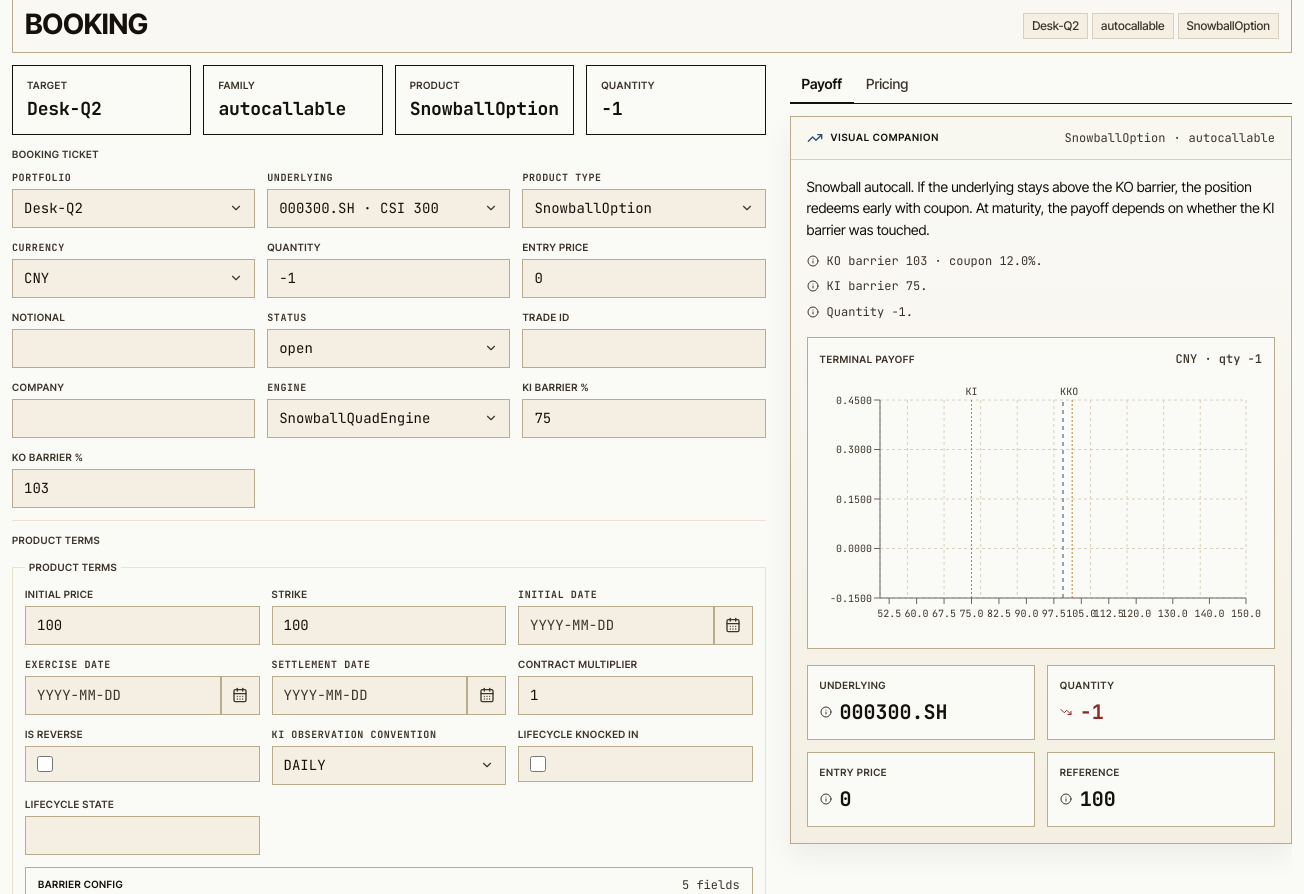
Test: BookingLive › books a product-backed position into a container portfolio
Expected: the heading "BOOKING" is shown, [25,9,148,40]
Expected: the dropdown labelled "Currency" shows "CNY", [11,239,1291,257]
In the field labelled "Trade ID": (644, 348) [522,329,766,368], type "BOOK-1"
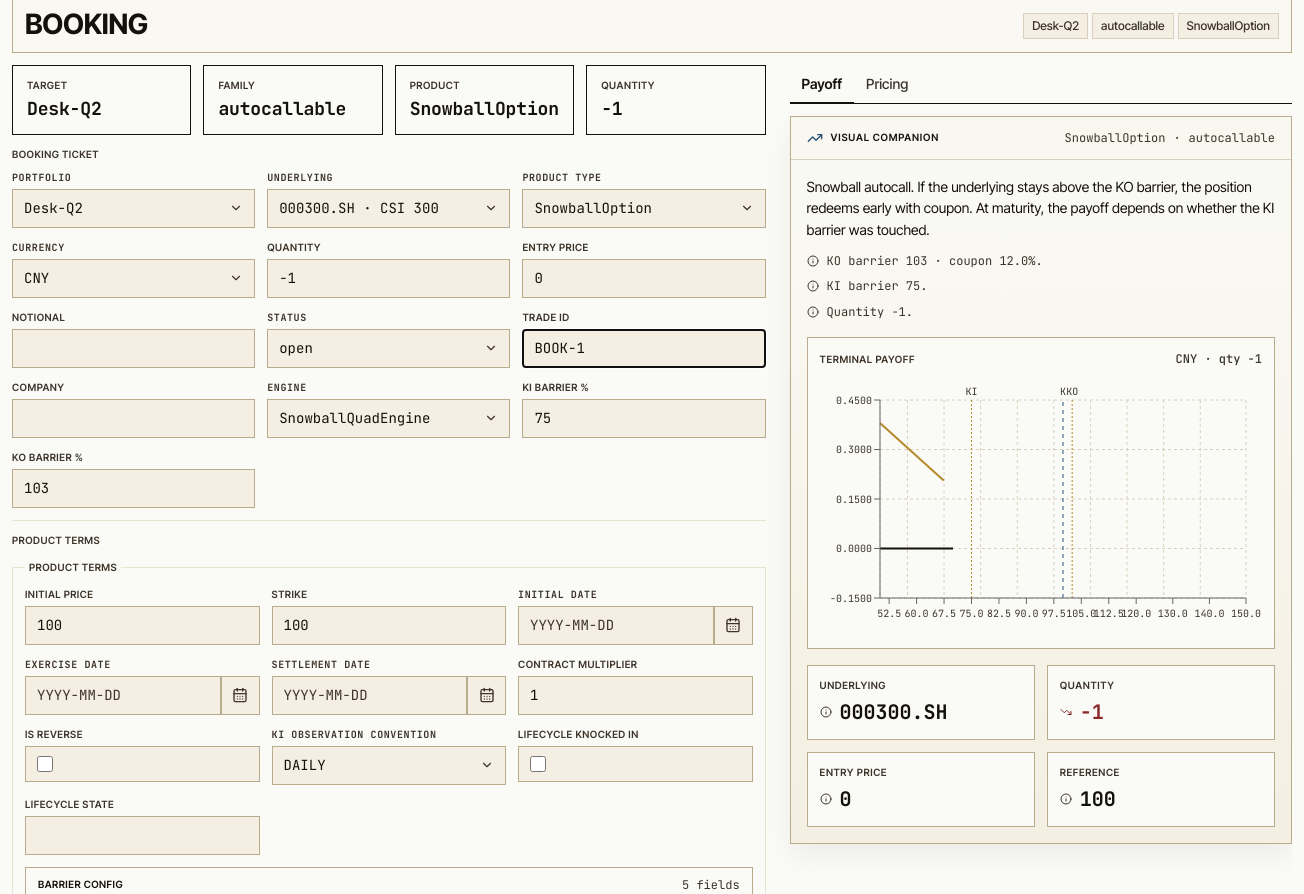
In the field labelled "Company": (134, 418) [12,399,255,438], type "ACME Corp"
(page scrolled)
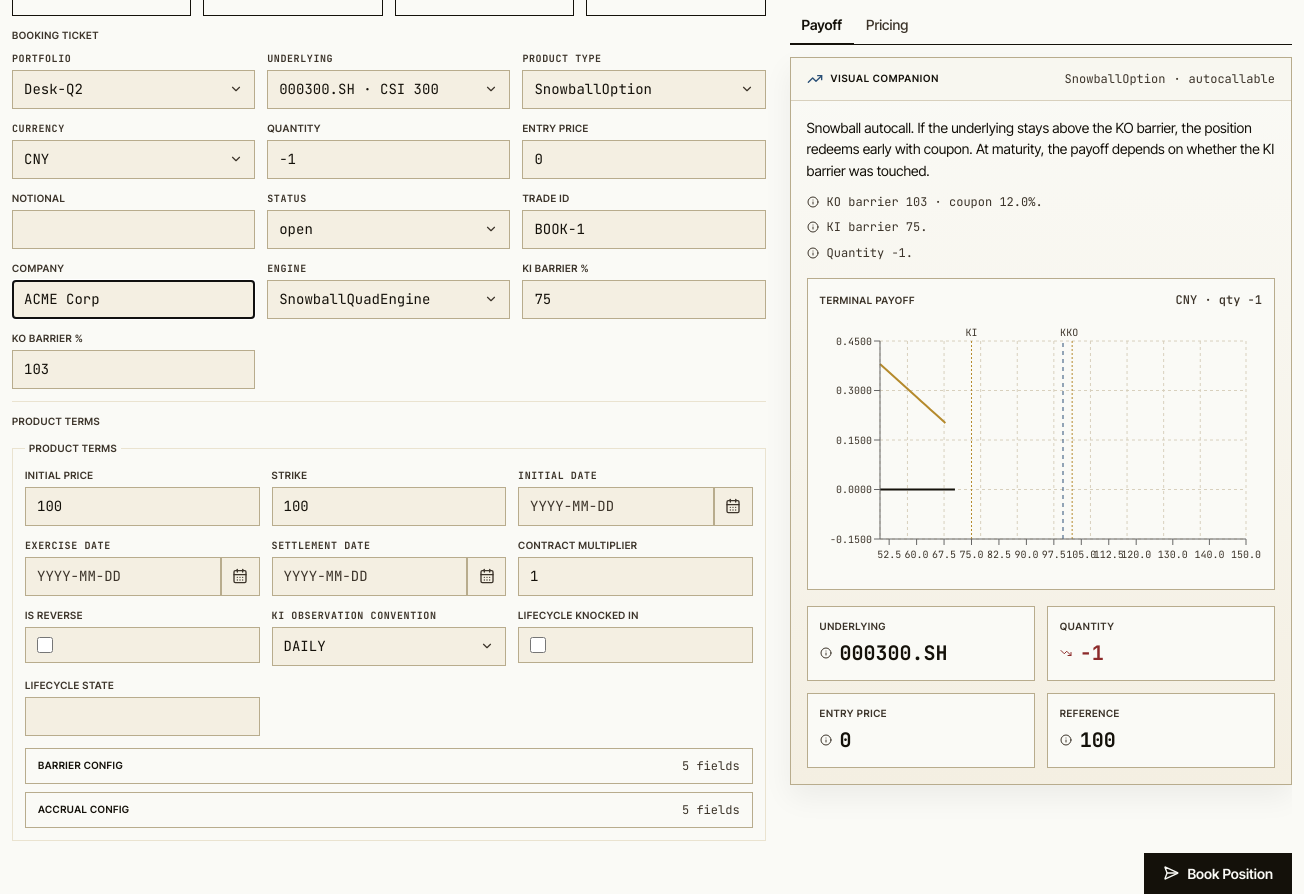
Click the button "Book Position": (1218, 873) [1144,853,1292,893]
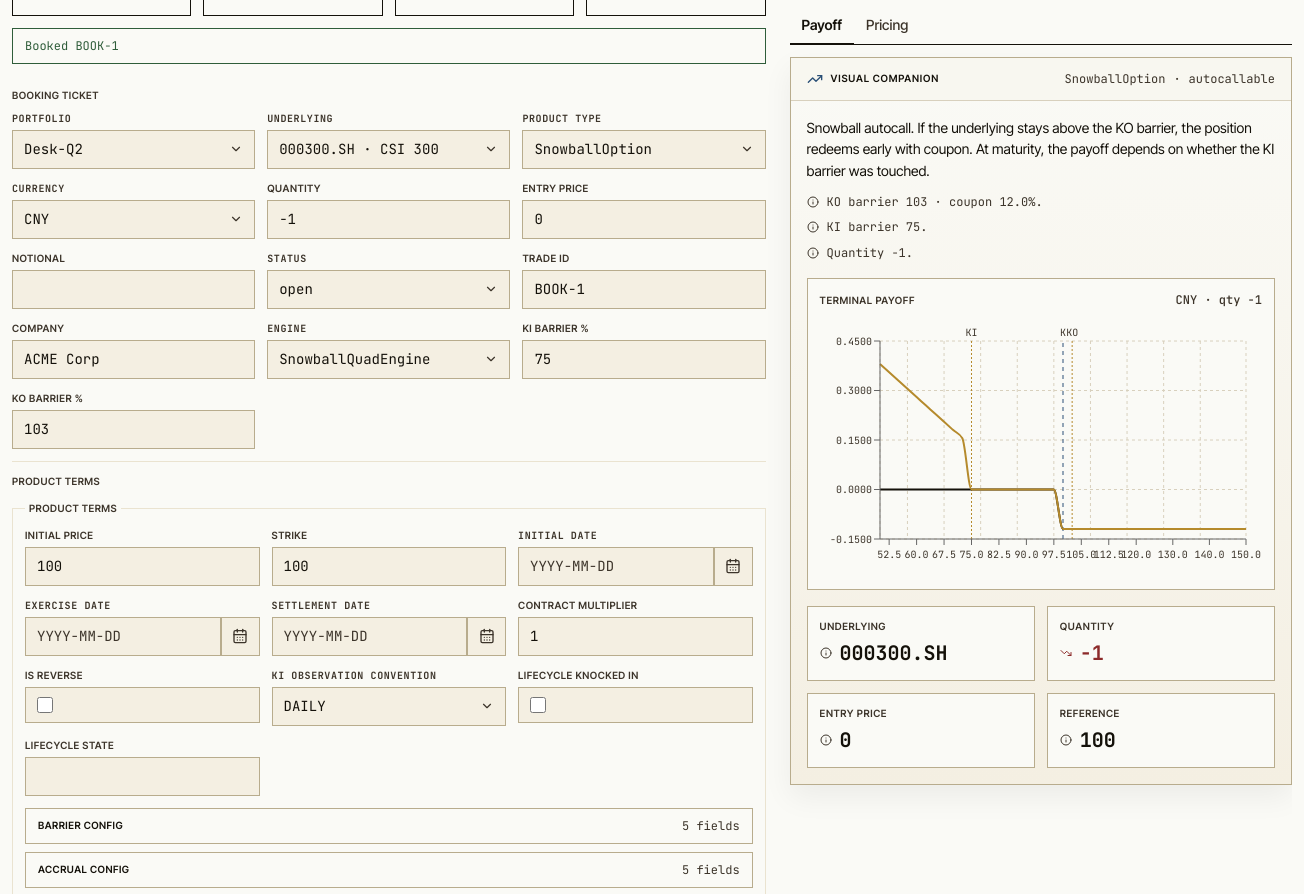
Result: the text "Booked BOOK-1" is shown at [12,28,766,64]
